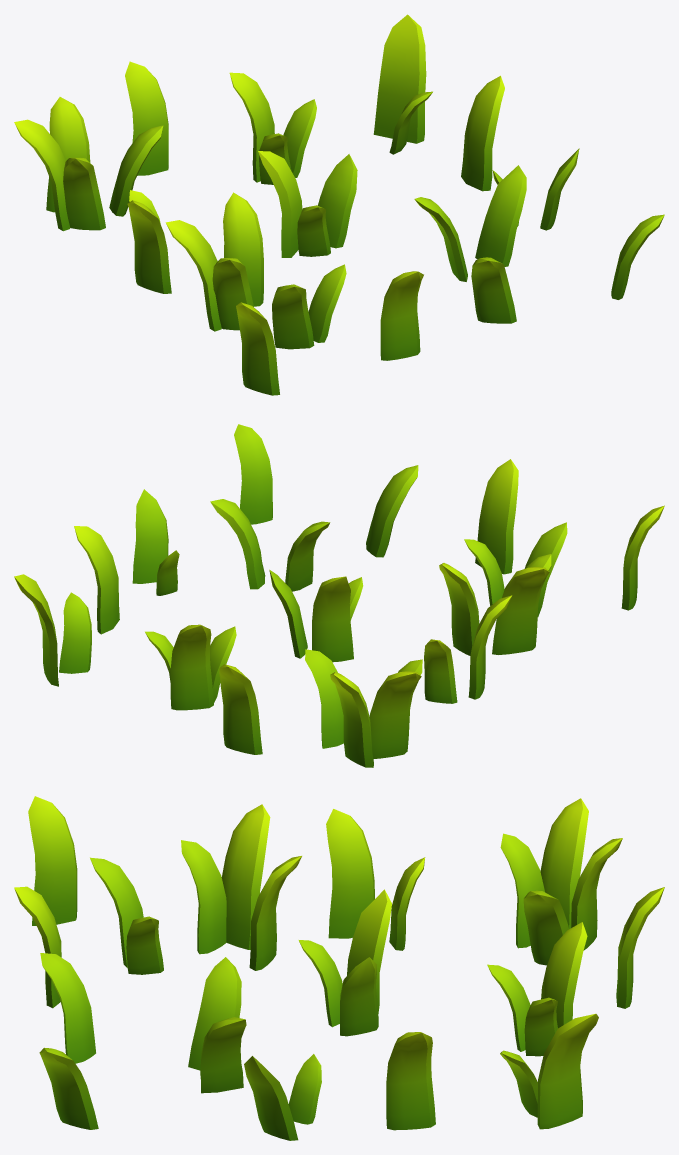
The model's file is Plant_Grass_01.fbx.
3 views of the same model, one above another, from view 1: azimuth 30°, elevation 25°; view 2: azimuth 150°, elevation 25°; view 3: azimuth 270°, elevation 25° (orthographic). The views are drawn at different scales.
Visible parts, largest first — view 1: Plant_Grass_01; view 2: Plant_Grass_01; view 3: Plant_Grass_01.
Part boxes in pixels (left/top/right/bottom): Plant_Grass_01: left=14, top=14, right=664, bottom=395; Plant_Grass_01: left=14, top=424, right=664, bottom=767; Plant_Grass_01: left=14, top=796, right=664, bottom=1140.
Size of the model in its own units: 165 by 38.7 by 190.
